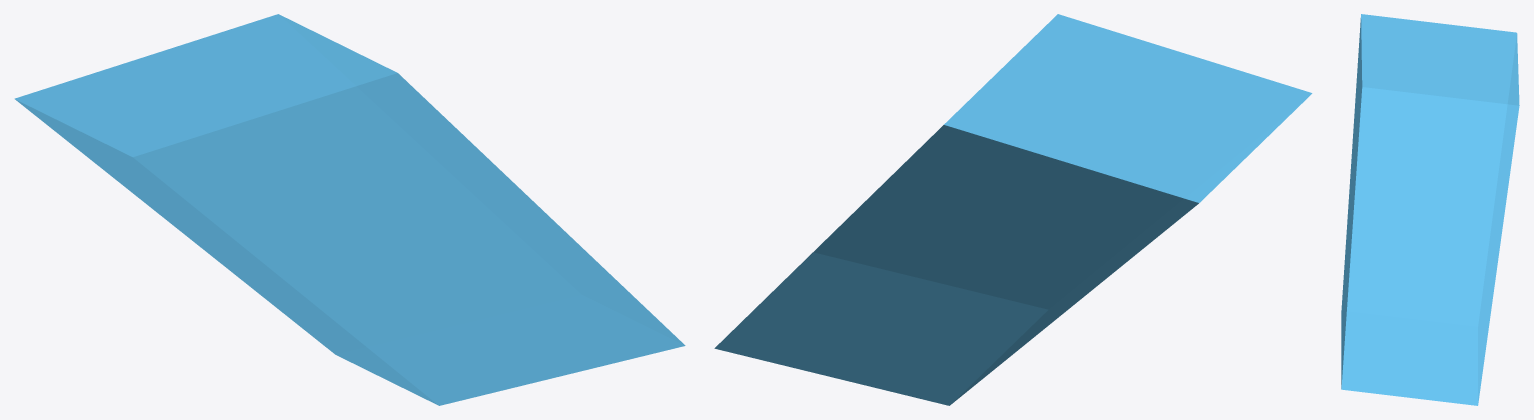
File: Event_420094457_HBrechit_13.fbx
3 views of the same model, side by side, from view 1: azimuth 30°, elevation 25°; view 2: azimuth 150°, elevation 25°; view 3: azimuth 270°, elevation 25° (orthographic). The views are drawn at different scales.
Visible parts, largest first — view 1: Model; view 2: Model; view 3: Model.
Boxes of the visible parts, x1,y1,x2,y2 form: Model: [14, 14, 685, 405]; Model: [714, 14, 1312, 405]; Model: [1341, 14, 1519, 405].
Size of the model in its own units: 1.19 by 0.7453 by 0.519.
